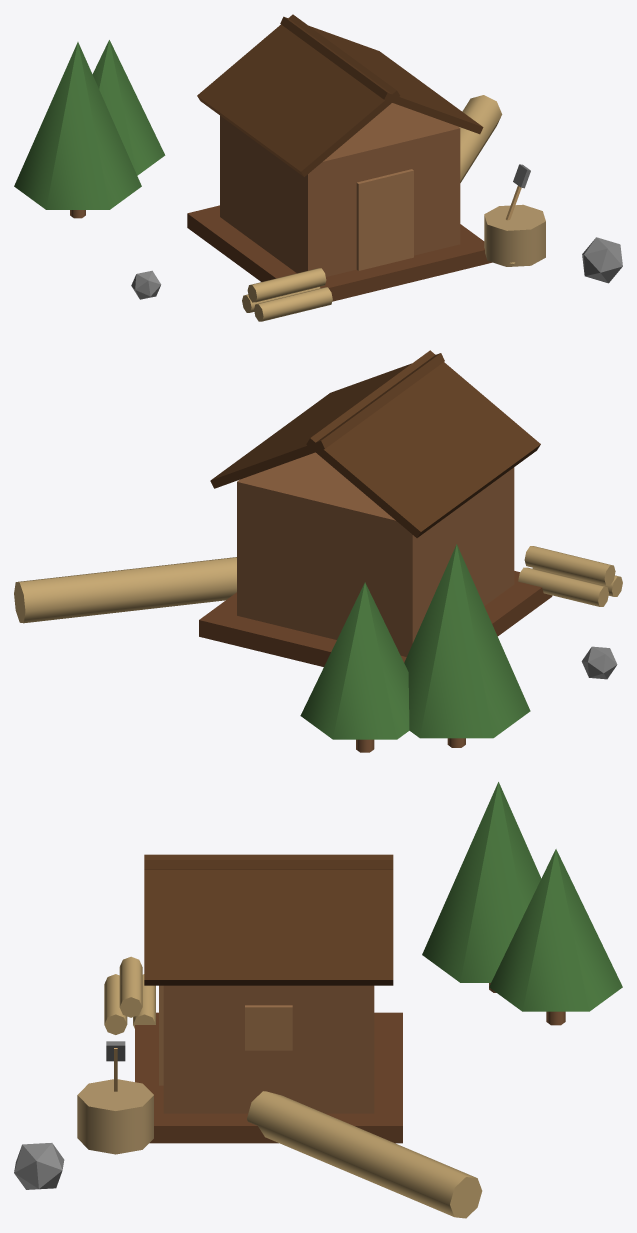
Rendered from woodcutter_hut.glb.
3 renders of one model, top to bottom at view 1: azimuth 30°, elevation 25°; view 2: azimuth 150°, elevation 25°; view 3: azimuth 270°, elevation 25°, orthographic. The views are drawn at different scales.
Visible parts, largest first — view 1: Walls, RoofLeft, TreeFoliage1, Foundation, Door, RoofRight, TreeFoliage2, ChoppingBlock, FelledTree, Log3, Log1, Rock1 (+1 smaller); view 2: Walls, RoofLeft, TreeFoliage1, TreeFoliage2, FelledTree, RoofRight, Foundation, Log3, Log2, Rock2; view 3: RoofRight, Walls, TreeFoliage1, TreeFoliage2, FelledTree, Foundation, ChoppingBlock, RoofLeft, Window, Rock1, Log3, Log1 (+1 smaller).
Boxes of the visible parts, box(x1,y1,x2,y2) form: Walls: box(220, 103, 460, 276); RoofLeft: box(197, 14, 400, 176); TreeFoliage1: box(14, 42, 141, 209); Foundation: box(187, 205, 492, 301); Door: box(356, 169, 413, 270); RoofRight: box(280, 16, 483, 134); TreeFoliage2: box(92, 40, 165, 175); ChoppingBlock: box(484, 204, 545, 266); FelledTree: box(459, 95, 502, 182); Log3: box(247, 268, 326, 302); Log1: box(254, 287, 332, 321); Rock1: box(582, 237, 622, 283); Walls: box(237, 452, 514, 656); RoofLeft: box(306, 350, 540, 537); TreeFoliage1: box(404, 544, 530, 738); TreeFoliage2: box(300, 582, 409, 739); FelledTree: box(14, 557, 236, 623); RoofRight: box(210, 353, 444, 488); Foundation: box(199, 571, 552, 666); Log3: box(524, 546, 615, 585); Log2: box(518, 567, 608, 606); Rock2: box(581, 646, 617, 679); RoofRight: box(144, 854, 393, 985); Walls: box(163, 985, 374, 1113); TreeFoliage1: box(422, 782, 541, 982); TreeFoliage2: box(489, 849, 622, 1011); FelledTree: box(247, 1091, 482, 1218); Foundation: box(135, 1012, 402, 1143); ChoppingBlock: box(77, 1079, 153, 1154); RoofLeft: box(144, 860, 393, 869); Window: box(245, 1005, 292, 1050); Rock1: box(14, 1143, 64, 1189); Log3: box(119, 956, 142, 1017); Log1: box(104, 974, 127, 1034).
Bounding box in the file's own units: 3.26 × 1.36 × 3.18.
